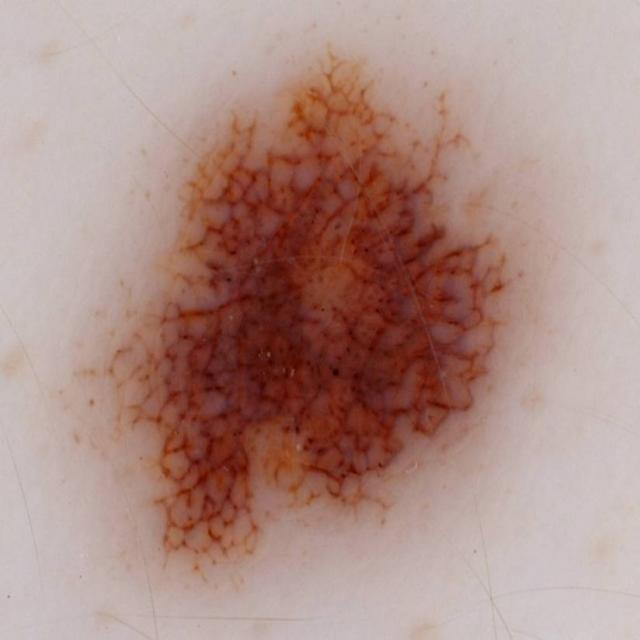Benign: (79, 39, 526, 592)
